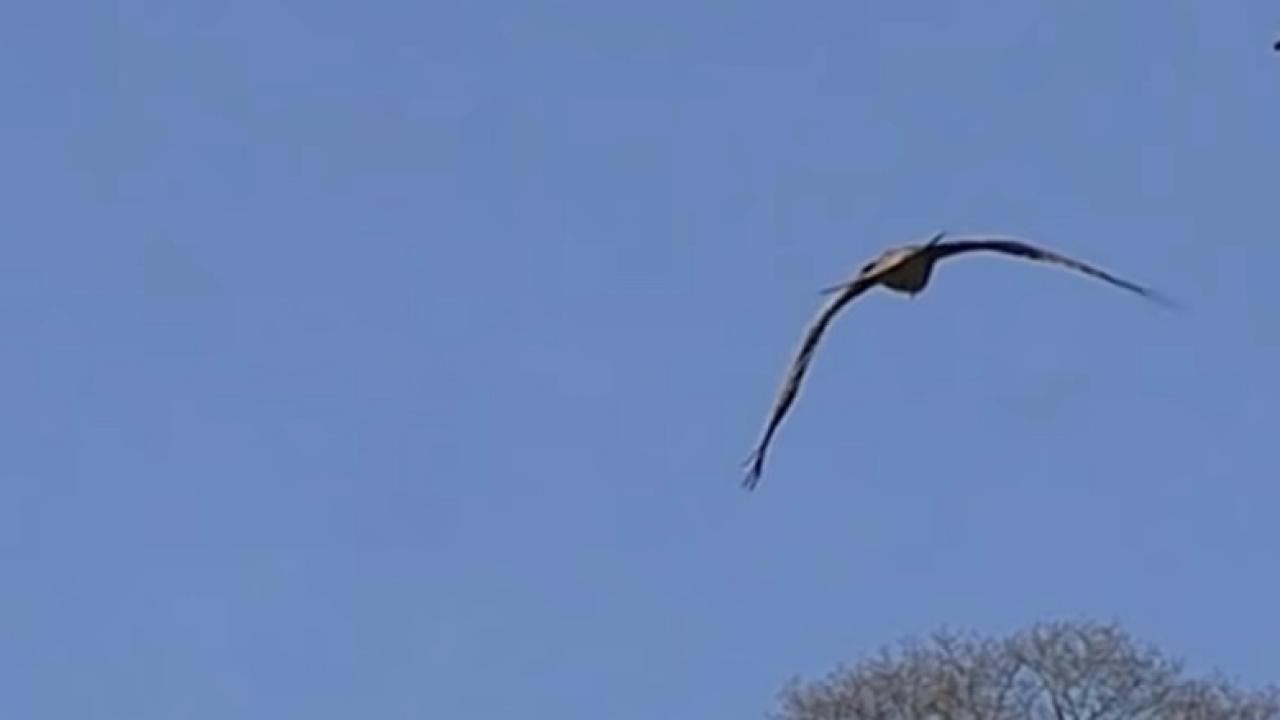Bird: (721, 216, 1197, 509)
